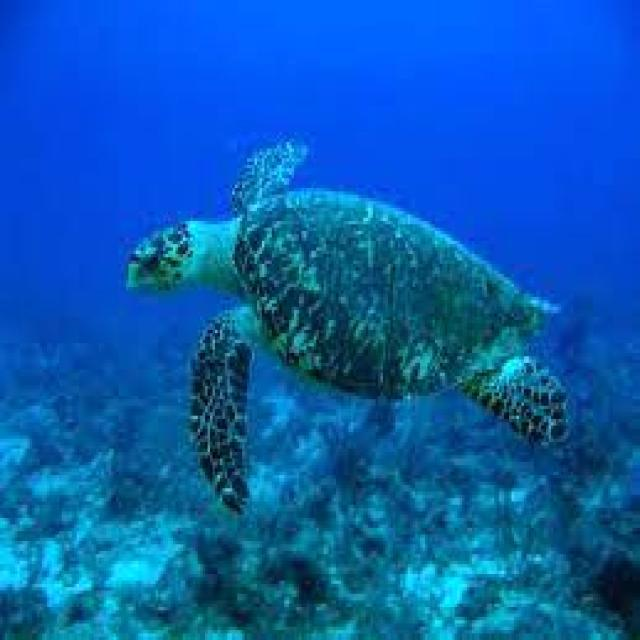Sea turtle: (68, 78, 592, 530)
